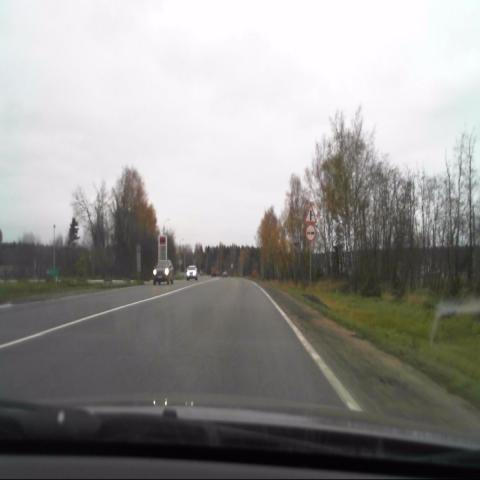2_3_2: (305, 206, 317, 224)
3_20: (306, 222, 315, 241)
